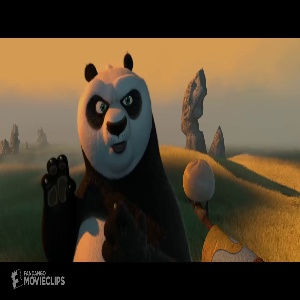po: (36, 50, 193, 261)
